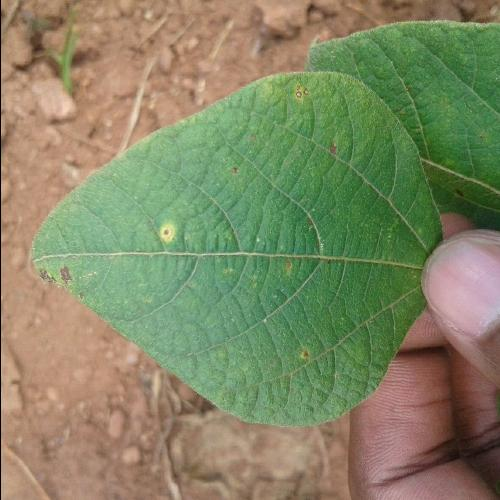hawar: (257, 63, 351, 160), (22, 261, 92, 302), (285, 324, 332, 377), (144, 206, 189, 251)
